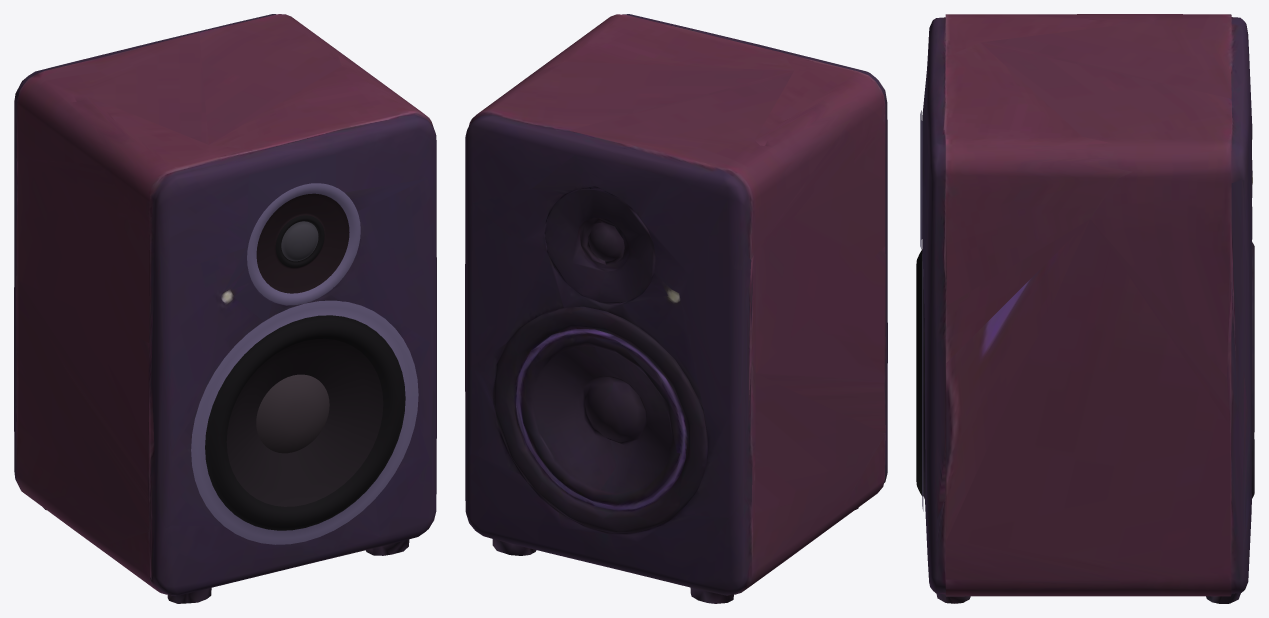
File: speaker.glb
3 renders of one model, left to right at view 1: azimuth 30°, elevation 25°; view 2: azimuth 150°, elevation 25°; view 3: azimuth 270°, elevation 25°, orthographic. The views are drawn at different scales.
Visible parts, largest first — view 1: box, woofer; view 2: box; view 3: box, woofer.
Boxes of the visible parts, left/top/right/bottom form: box: left=14, top=14, right=436, bottom=603; woofer: left=191, top=300, right=418, bottom=544; box: left=465, top=14, right=887, bottom=603; box: left=920, top=14, right=1254, bottom=603; woofer: left=916, top=249, right=923, bottom=511.
Size of the model in its own units: 0.2332 by 0.3397 by 0.2241.
Materials: 2 (2 with a texture image).
